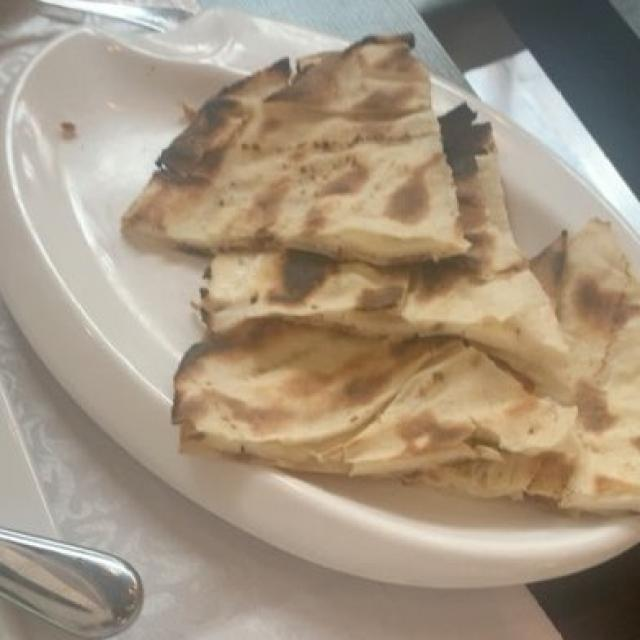bread: (133, 66, 634, 505)
